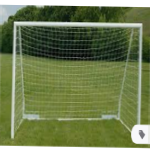goals: (11, 19, 140, 141)
